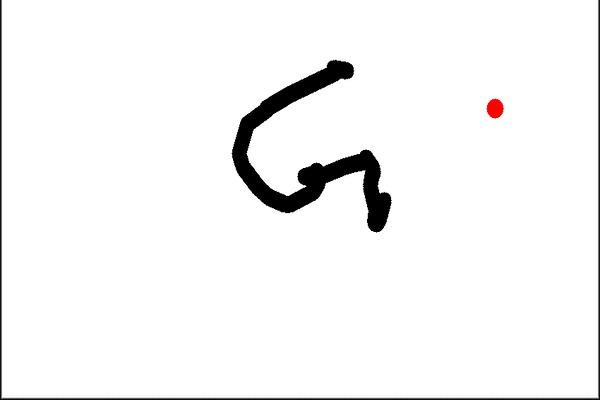G: (228, 51, 397, 237)
